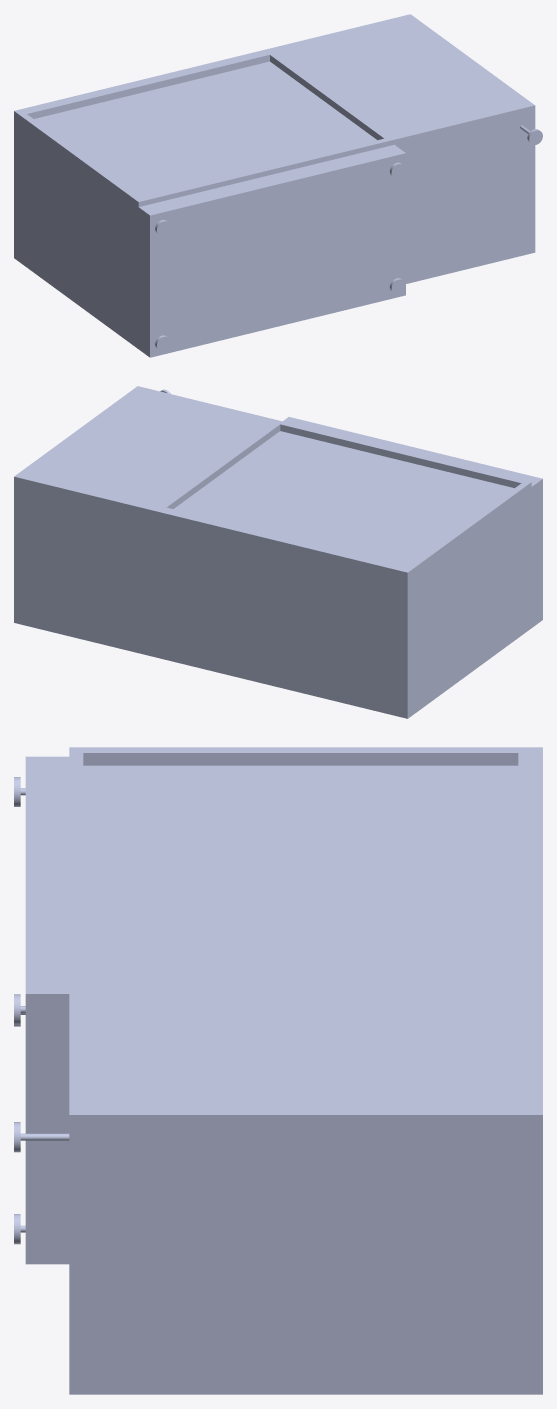
Rendered from Corner base_y.fbx.
The picture shows the model from 3 angles, top to bottom: view 1: azimuth 30°, elevation 25°; view 2: azimuth 150°, elevation 25°; view 3: azimuth 270°, elevation 25°; orthographic projection. The views are drawn at different scales.
Parts seen in each view (by area): view 1: Body_1; view 2: Body_1; view 3: Body_1.
Boxes of the visible parts, x1,y1,x2,y2 form: Body_1: [14, 14, 542, 357]; Body_1: [14, 386, 542, 718]; Body_1: [14, 747, 542, 1394].
Bounding box in the file's own units: 1.57 × 0.9573 × 0.5588.
